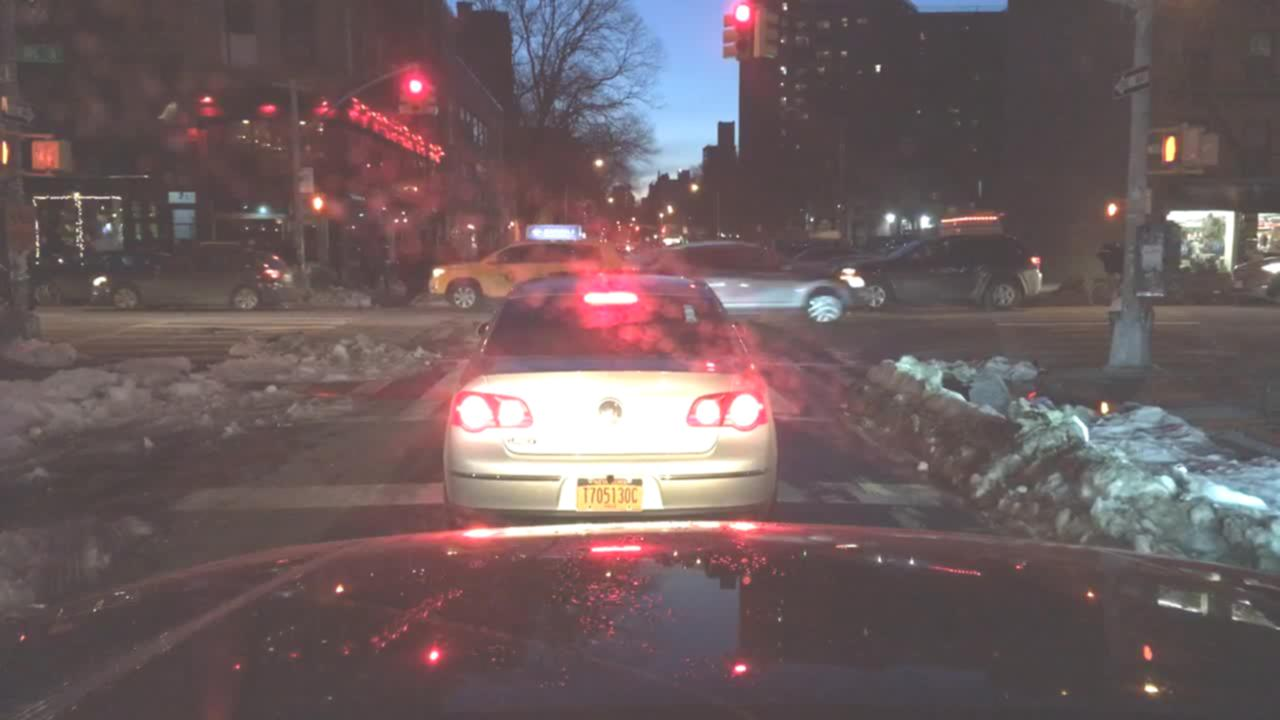Volkswagen: (587, 390, 634, 436)
